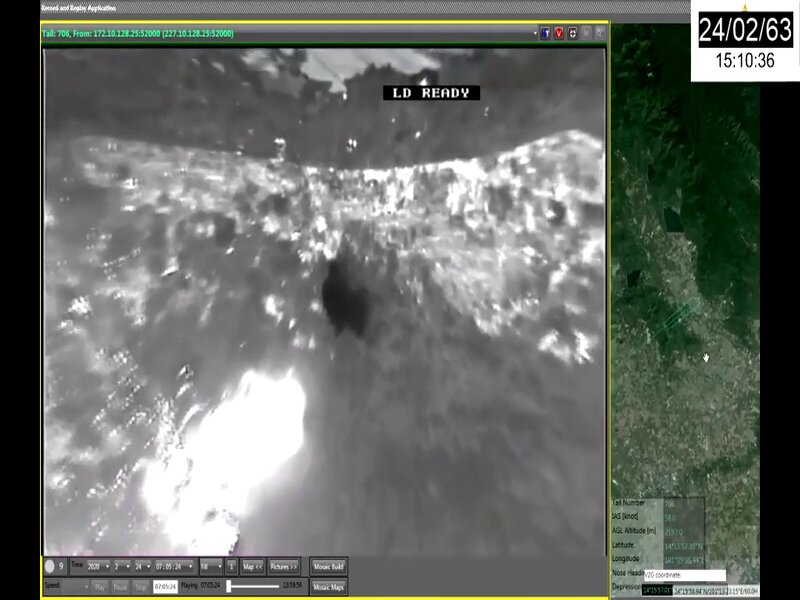Fire: (139, 369, 308, 555)
